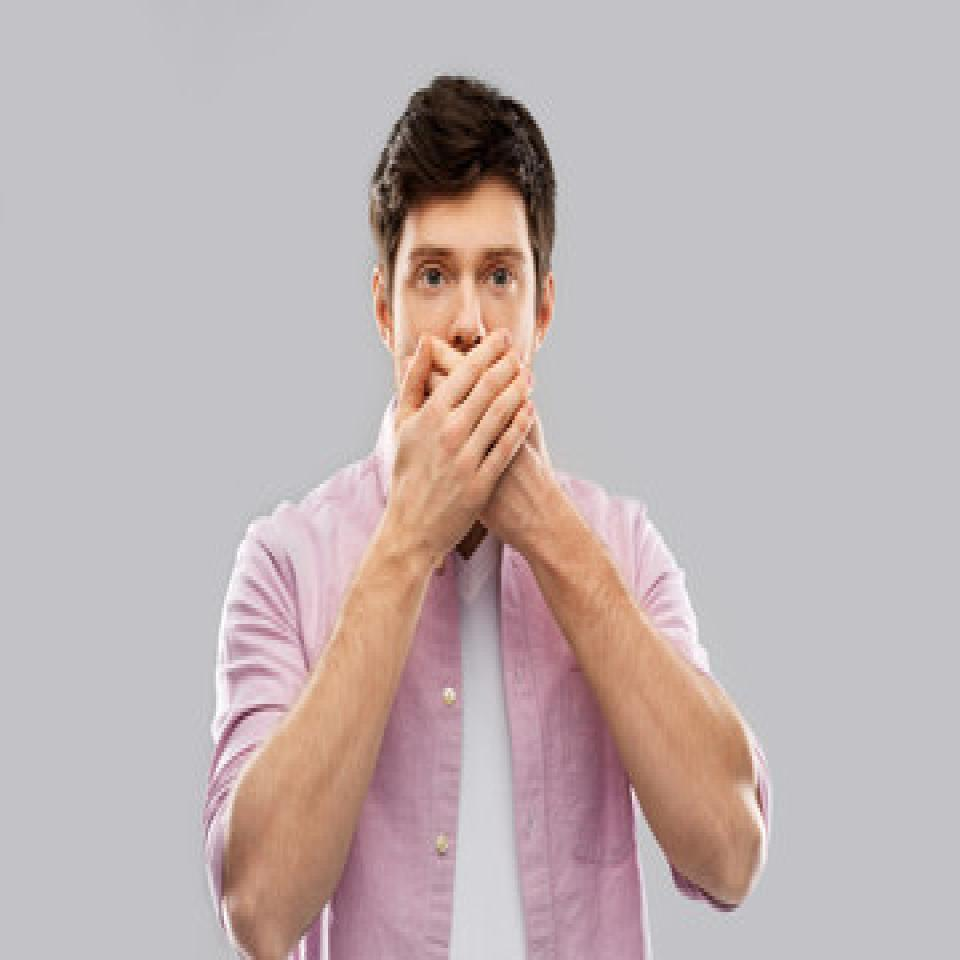Scared: (392, 200, 536, 547)
